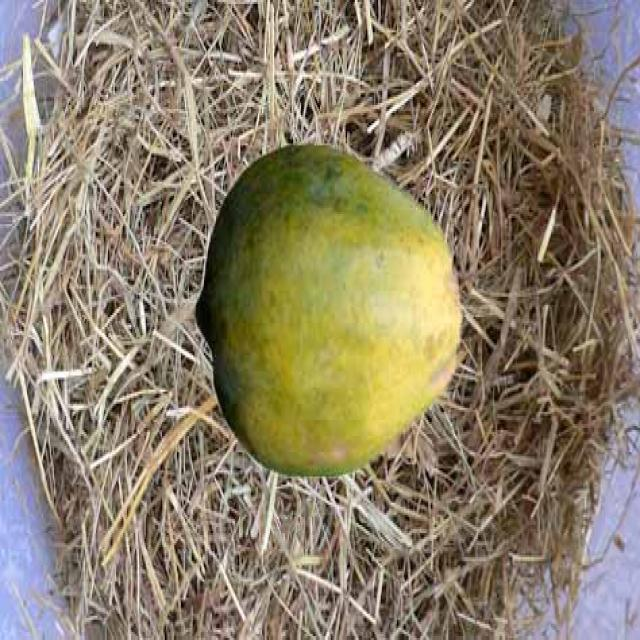Pepaya rippen: (189, 154, 458, 476)
